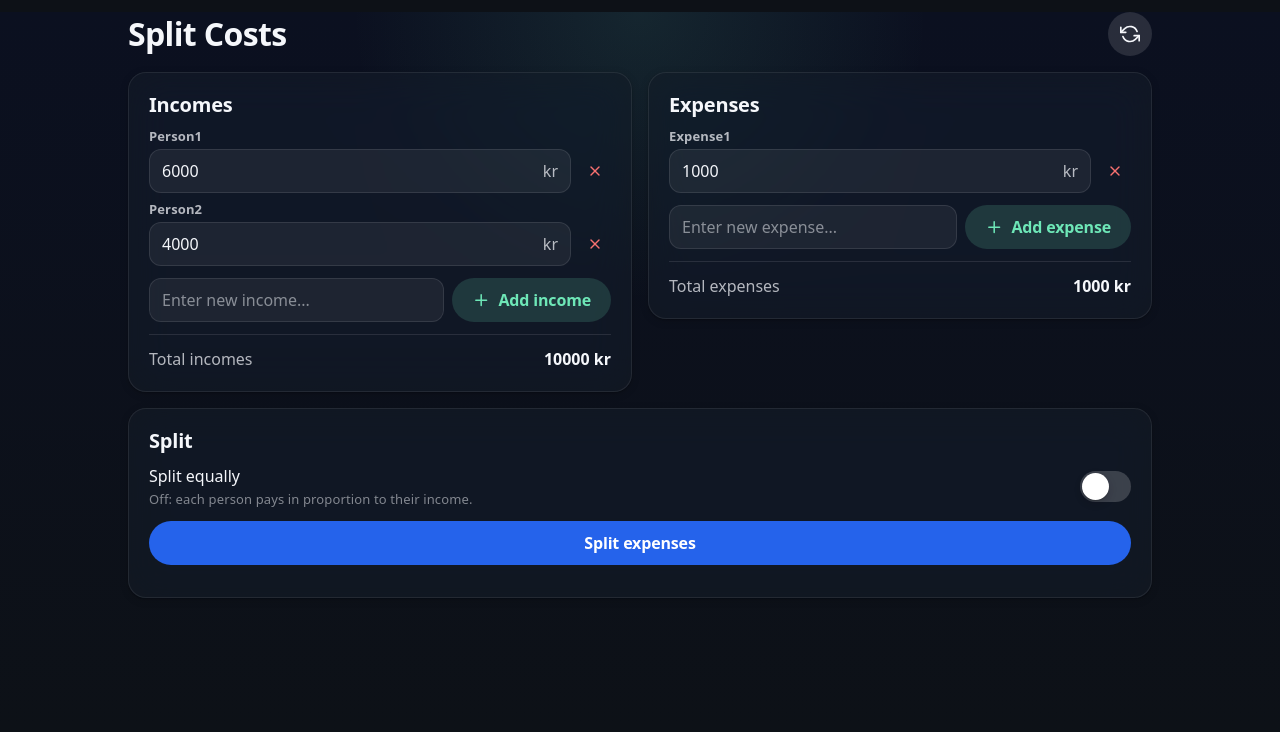
CostCalculator › splitting › splits proportionally to income by default
This screenshot has width=1280, height=732.
Step 1. Click the button "Split expenses" → [640, 543], box [149,521,1131,565]
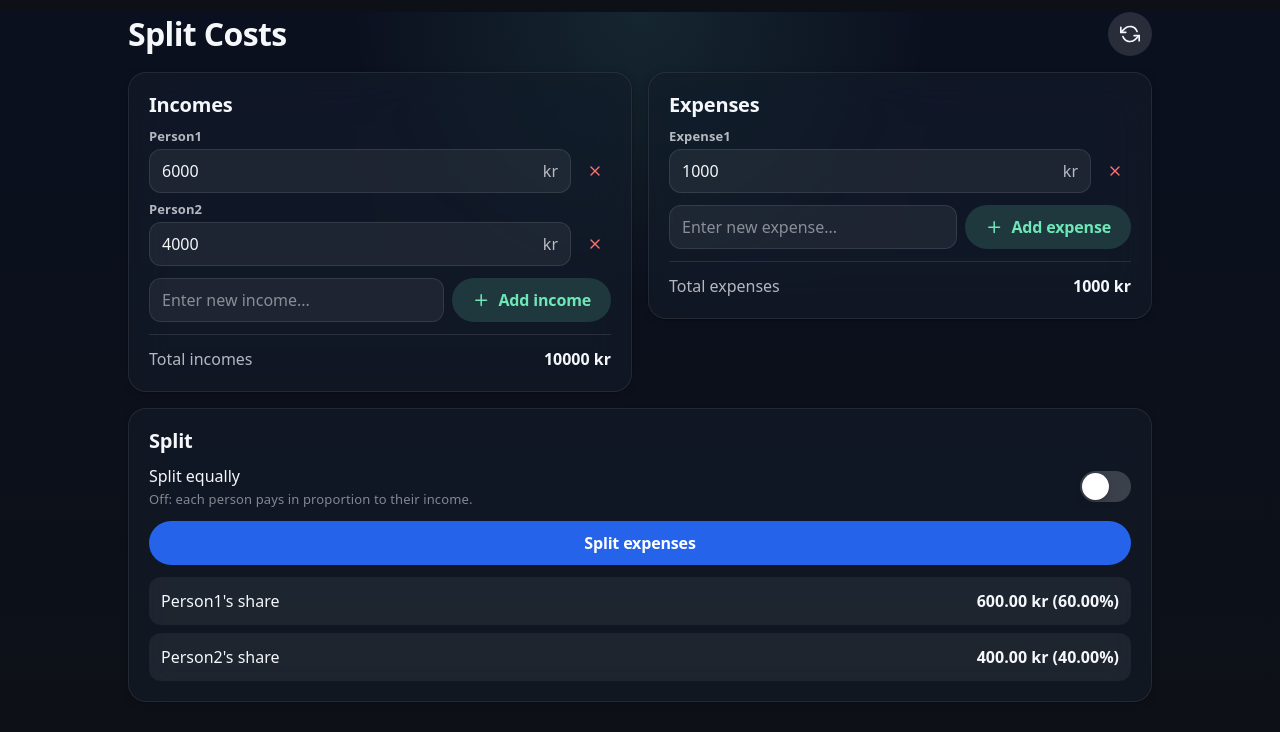
Now the list item "Person1's share 600.00 kr (60.00%)" is shown, box [149,577,1131,625]
Now the list item "Person2's share 400.00 kr (40.00%)" is shown, box [149,633,1131,681]
